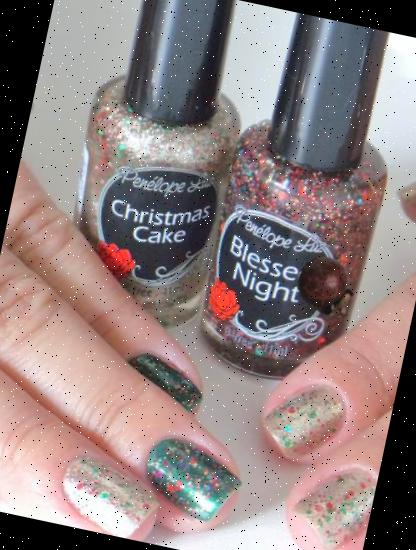Mangostan: (288, 250, 366, 329)
